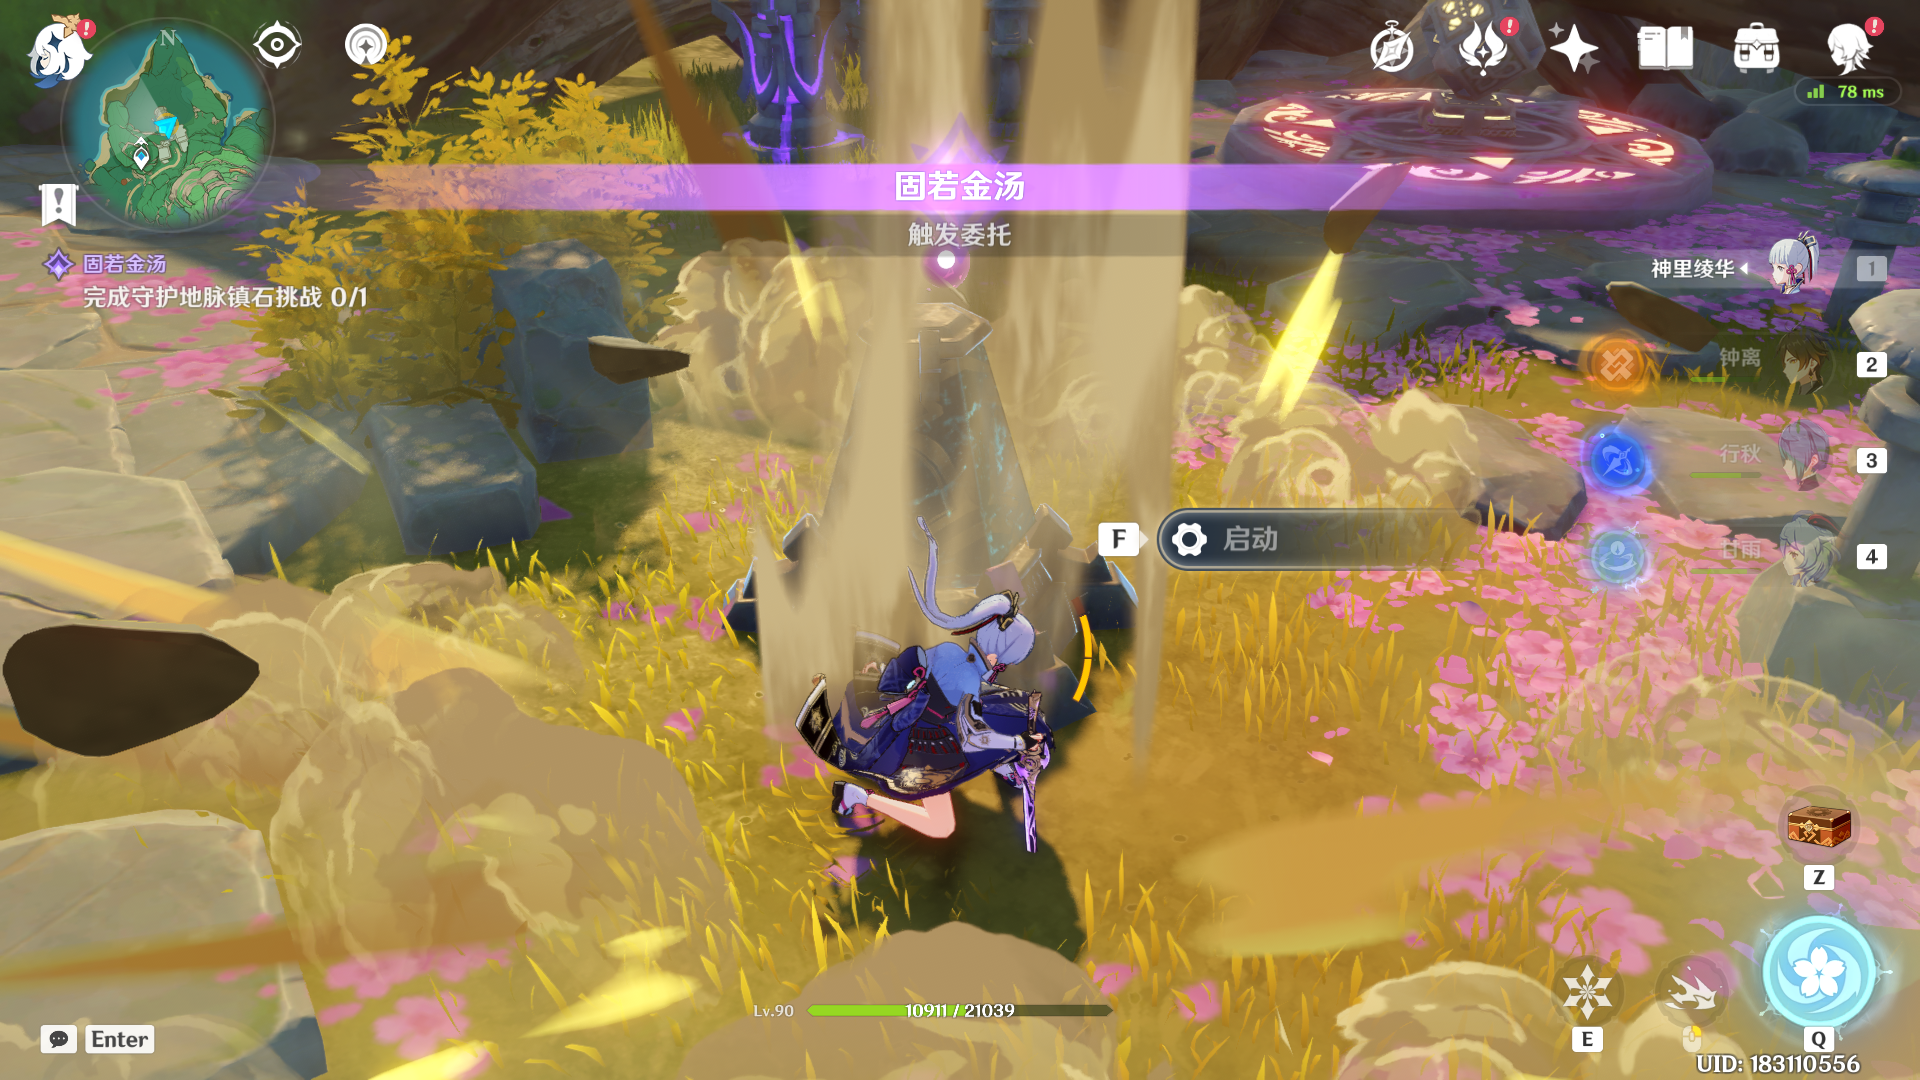character: (732, 524, 1112, 913)
